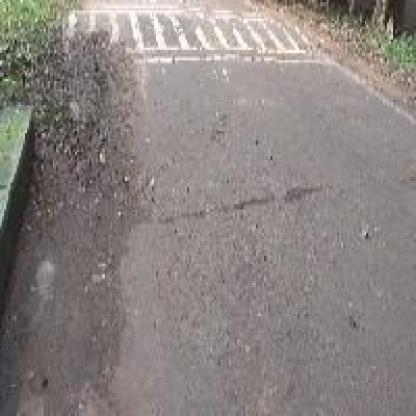Speed Bump: (60, 2, 339, 69)
